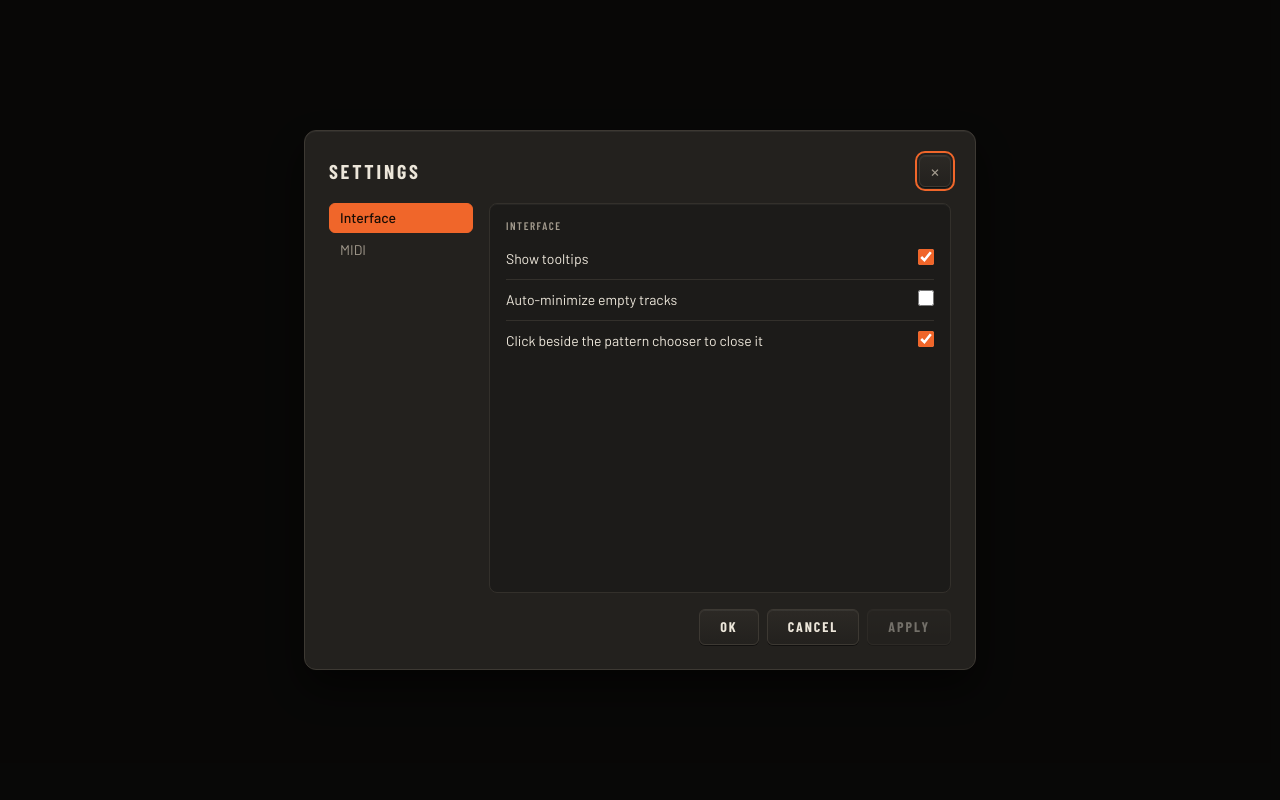
SettingsModal › stages changes until Apply, which then disables
The width and height of the screenshot is (1280, 800).
Check: the button "Apply" is disabled, box [867,609,951,645]
Click the checkbox labelled "Auto-minimize empty tracks" at (926, 298), box [918,290,934,306]
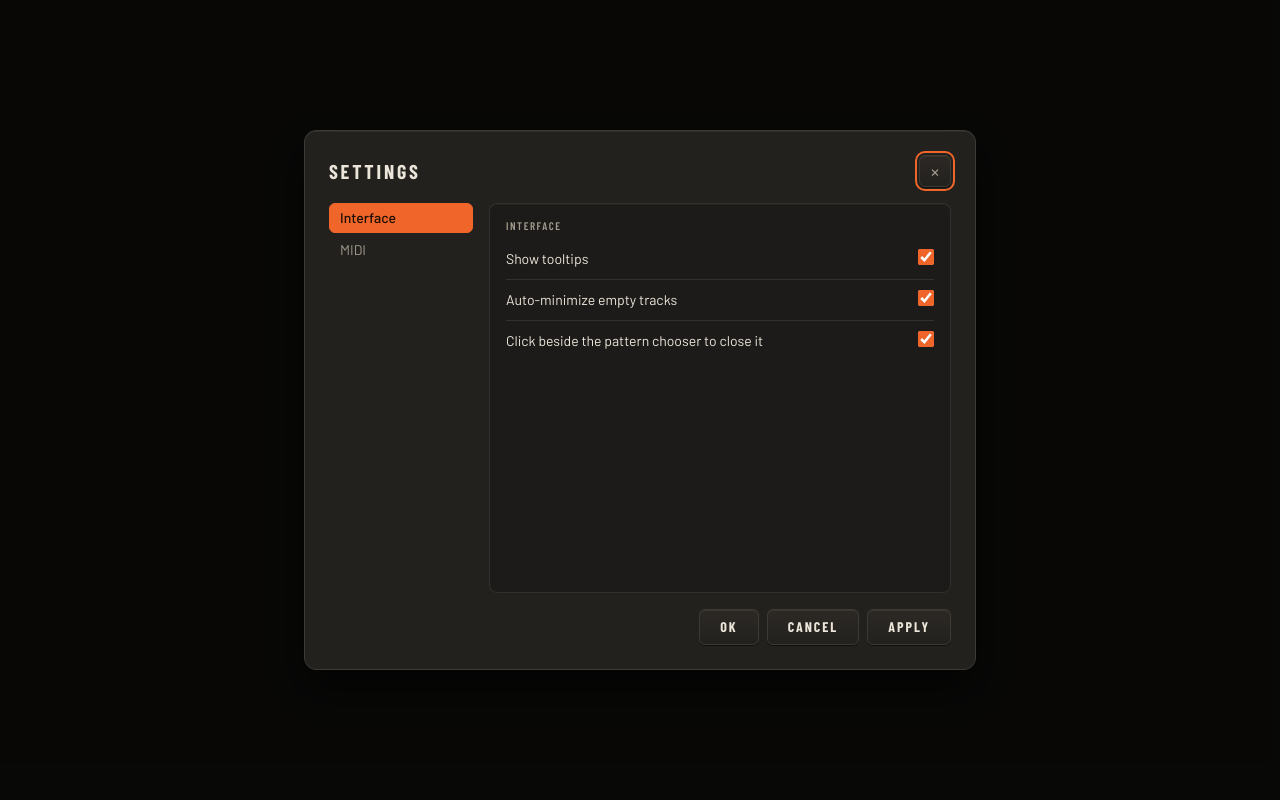
Check: the checkbox labelled "Auto-minimize empty tracks" is checked, box [918,290,934,306]
Check: the button "Apply" is enabled
Click the button "Apply" at (909, 627), box [867,609,951,645]
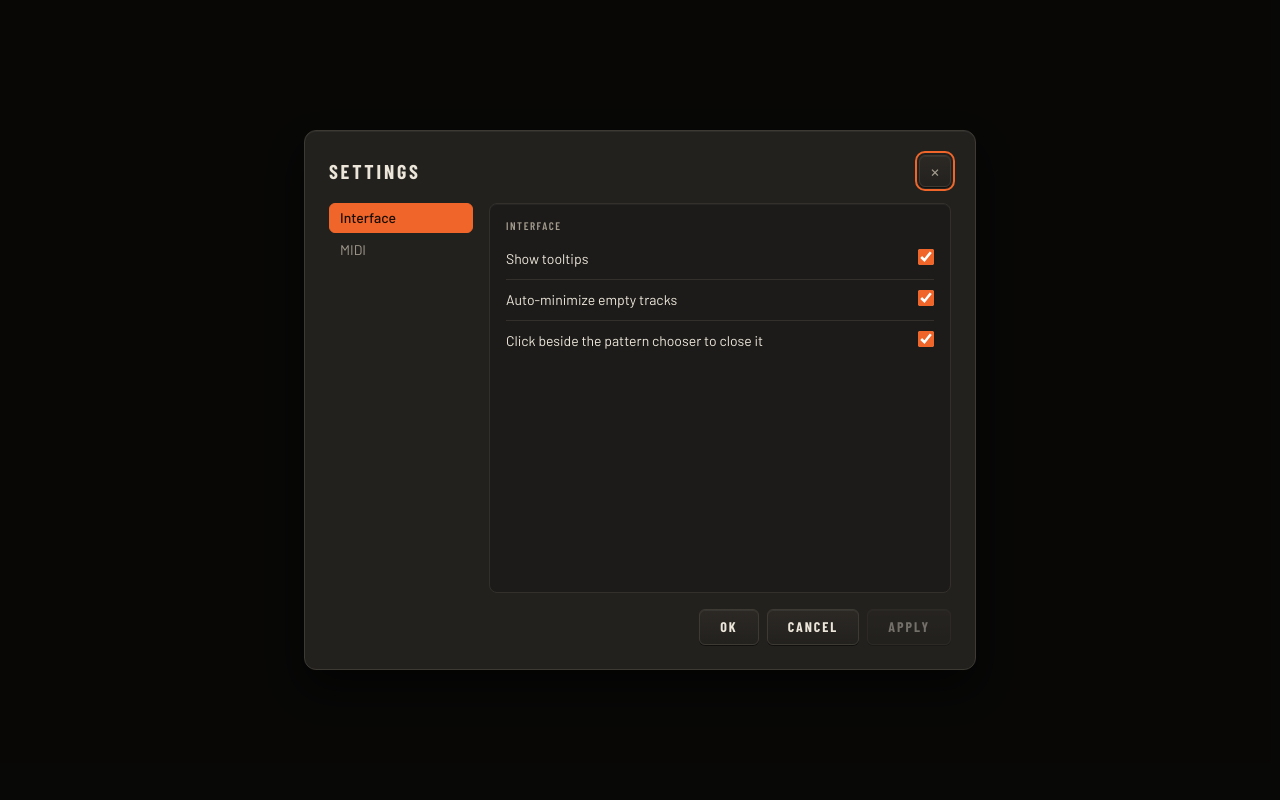
Check: the button "Apply" is disabled, box [867,609,951,645]
